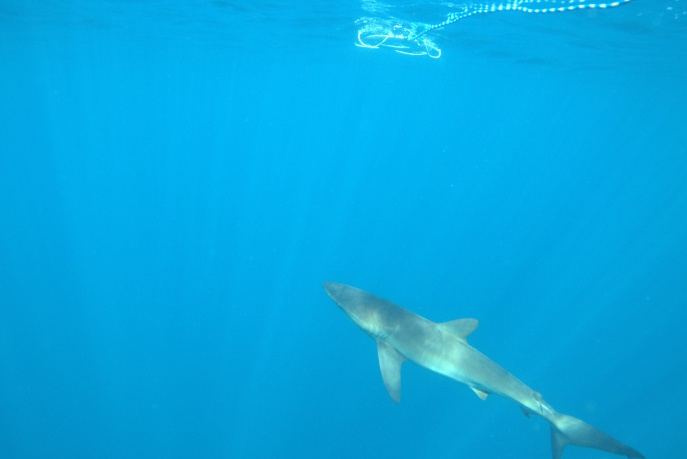Sedoso: (292, 263, 650, 459)
